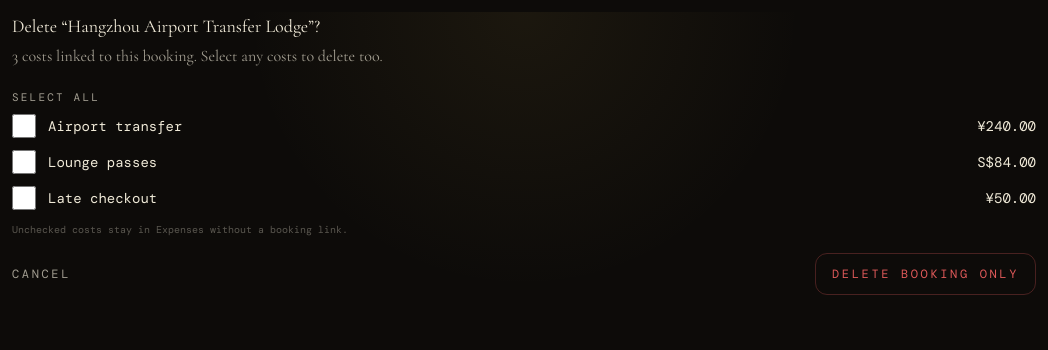
Test: BookingDeleteReview › select all checks every cost and toggles back to clear all
The width and height of the screenshot is (1048, 350).
Click the button "Select all": [56, 97] box [12,89,100,106]
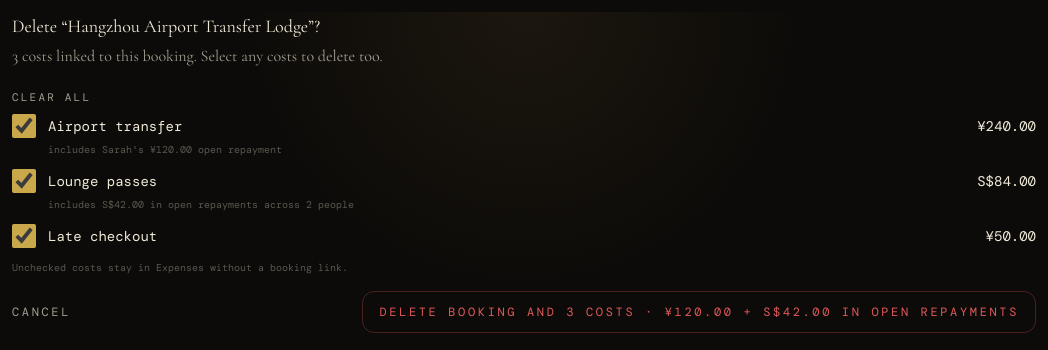
expect the checkbox labelled "Airport transfer ¥240.00" is checked: met, box [12,114,36,138]
expect the checkbox labelled "Lounge passes S$84.00" is checked: met, box [12,168,36,192]
expect the checkbox labelled "Late checkout ¥50.00" is checked: met, box [12,224,36,248]
Click the button "Clear all": [52, 97] box [12,89,91,106]
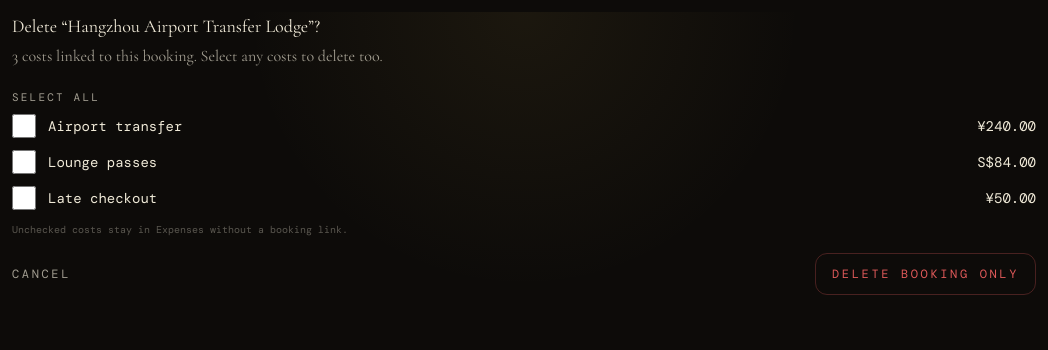
expect the checkbox labelled "Airport transfer ¥240.00" is not checked: met, box [12,114,36,138]
expect the checkbox labelled "Lounge passes S$84.00" is not checked: met, box [12,150,36,174]
expect the checkbox labelled "Late checkout ¥50.00" is not checked: met, box [12,186,36,210]
